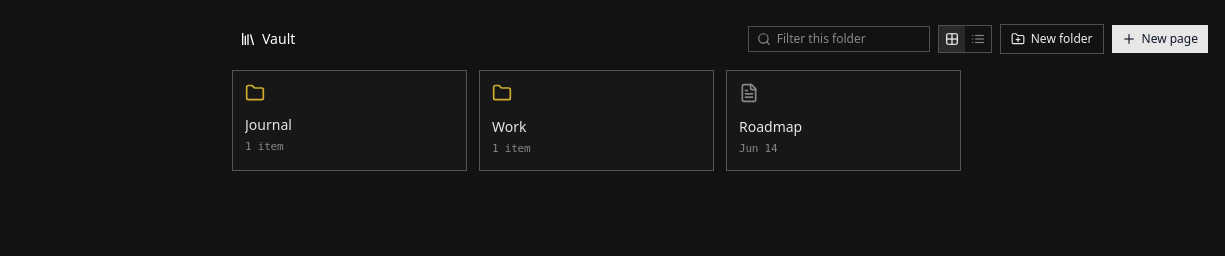
Test: VaultBrowserPane - right-click menu › closes on Escape without doing anything
The width and height of the screenshot is (1225, 256).
Right-click the element showing "Work 1 item" at (596, 120), box [479,70,714,170]
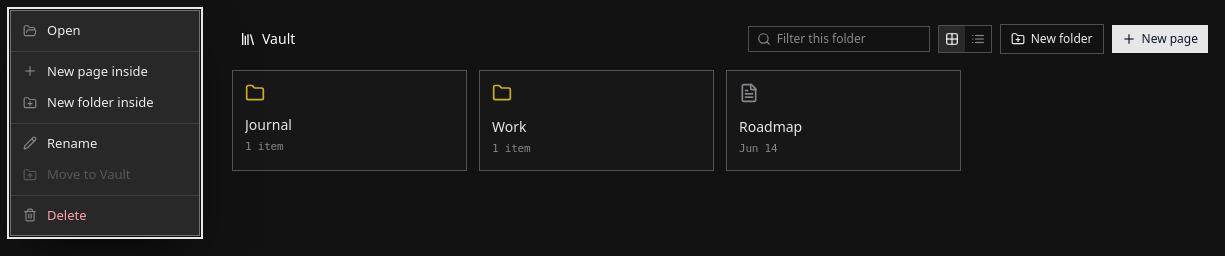
Press Escape in the menu, box [10,10,200,236]
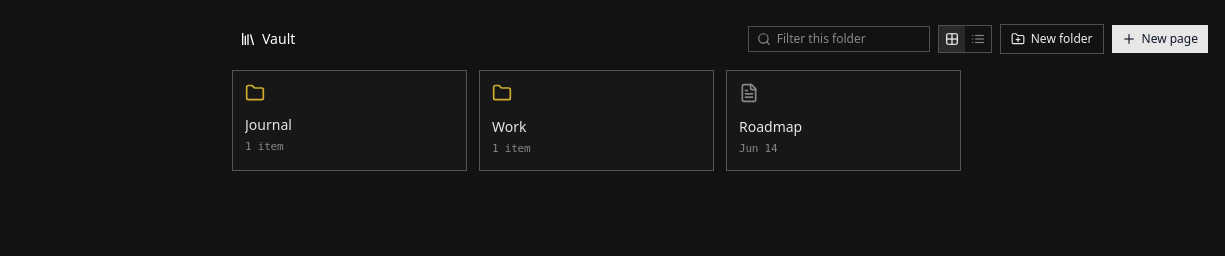
Now the menu is gone
